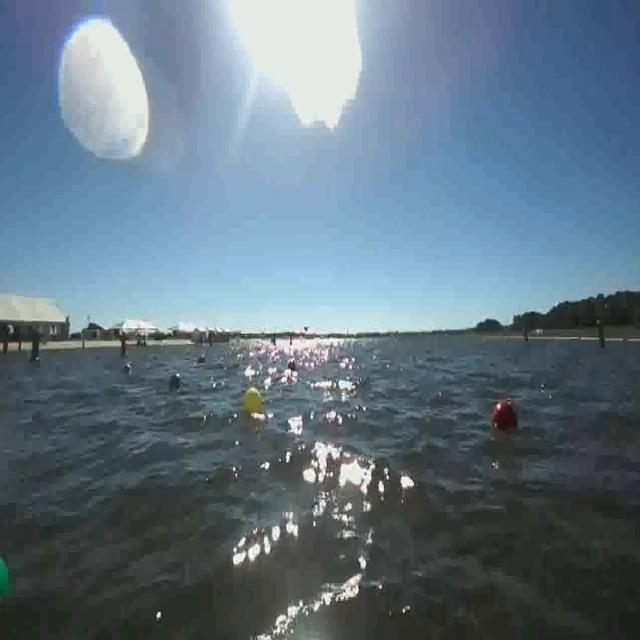green-buoy: (0, 550, 10, 596)
red-buoy: (492, 401, 518, 434)
yellow-buoy: (241, 386, 266, 421)
